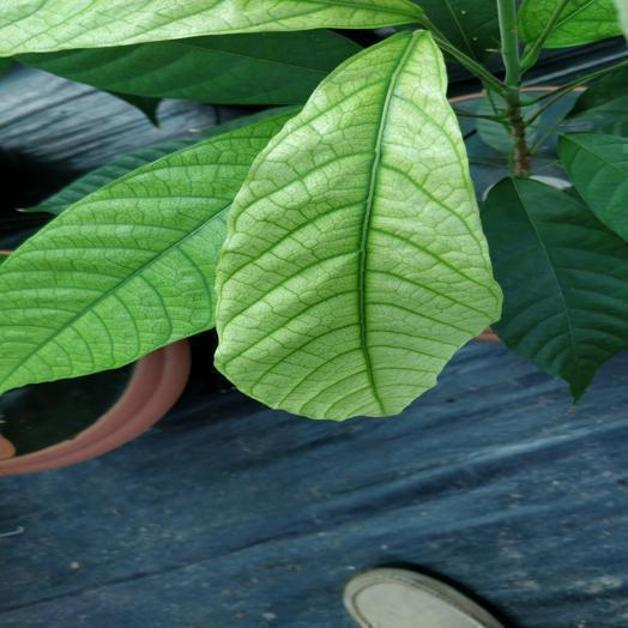Healthy Leaf: (482, 179, 627, 400), (27, 109, 291, 214), (16, 30, 359, 105), (560, 133, 627, 241), (518, 0, 627, 51)
Iron: (217, 31, 501, 419), (0, 114, 294, 392), (0, 0, 421, 55)
